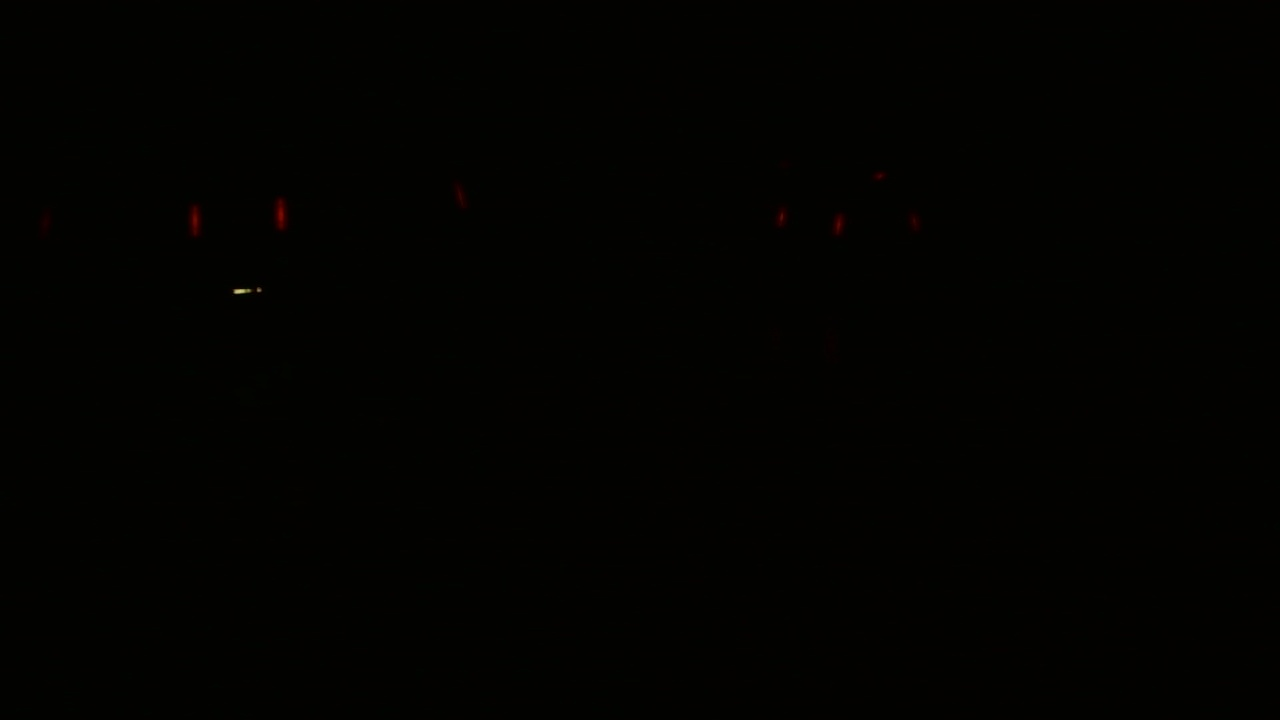pair1: (177, 193, 299, 249), (776, 202, 847, 240)
